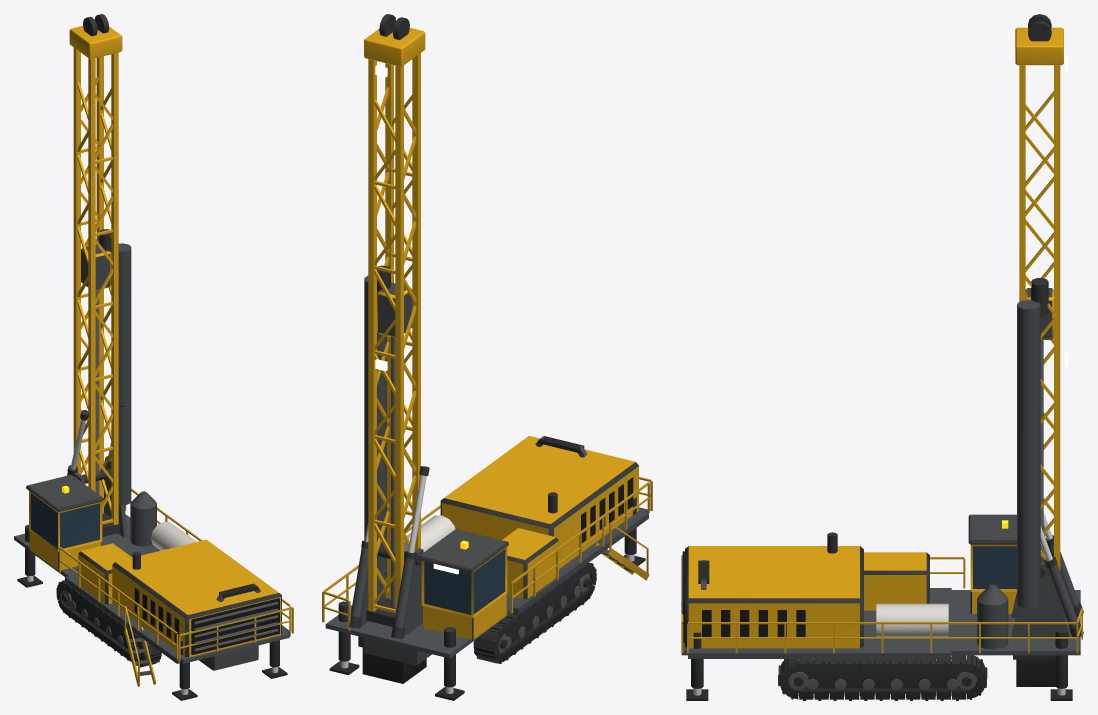
3 views of the same model, side by side, from view 1: azimuth 30°, elevation 25°; view 2: azimuth 150°, elevation 25°; view 3: azimuth 270°, elevation 25° (orthographic). The views are drawn at different scales.
Parts seen in each view (by area): view 1: base, mast, mast_cyl_L; view 2: base, mast, mast_cyl_L, mast_cyl_R; view 3: base, mast, mast_cyl_R, mast_cyl_L.
Boxes of the visible parts, x1,y1,x2,y2 form: base: [14, 464, 293, 700]; mast: [69, 14, 131, 536]; mast_cyl_L: [67, 410, 88, 475]; base: [322, 436, 652, 700]; mast: [364, 14, 425, 626]; mast_cyl_L: [391, 466, 429, 638]; mast_cyl_R: [349, 522, 368, 628]; base: [681, 514, 1082, 700]; mast: [1015, 14, 1067, 608]; mast_cyl_R: [1040, 526, 1083, 636]; mast_cyl_L: [1043, 513, 1083, 616].
Size of the model in its own units: 5.78 by 23.19 by 12.81.
